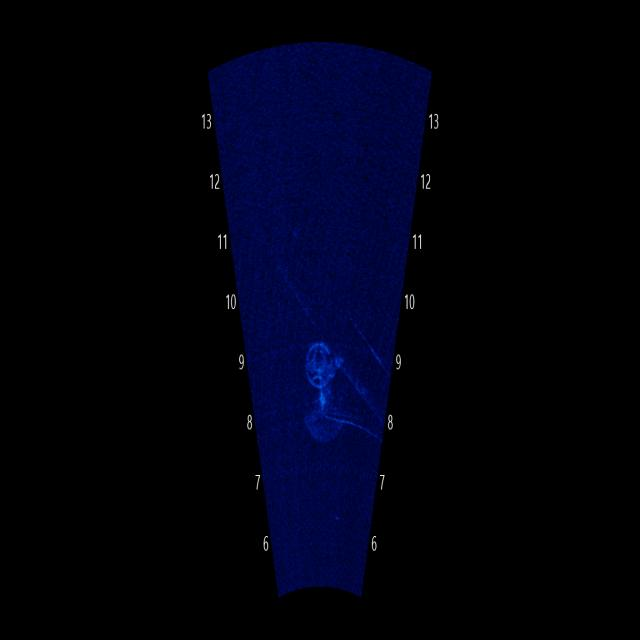circle: (298, 317, 349, 404)
